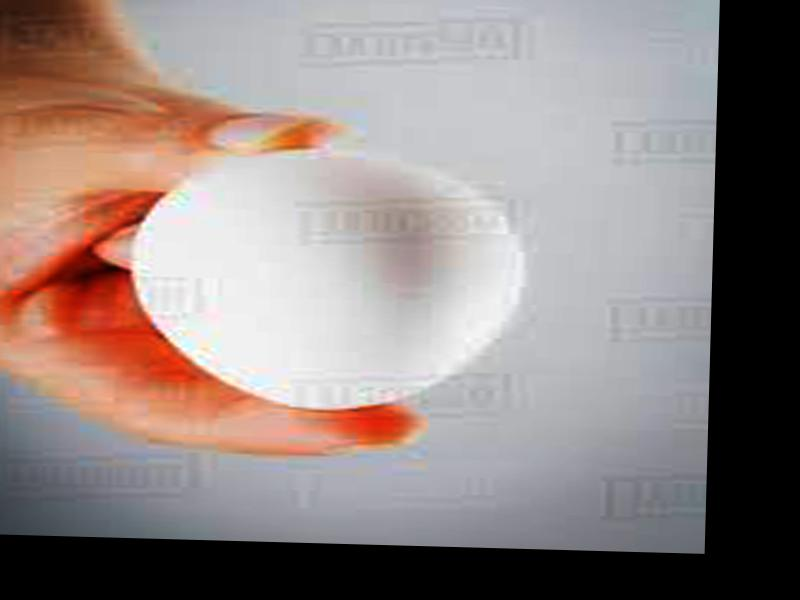Eggs: (130, 149, 526, 415)
